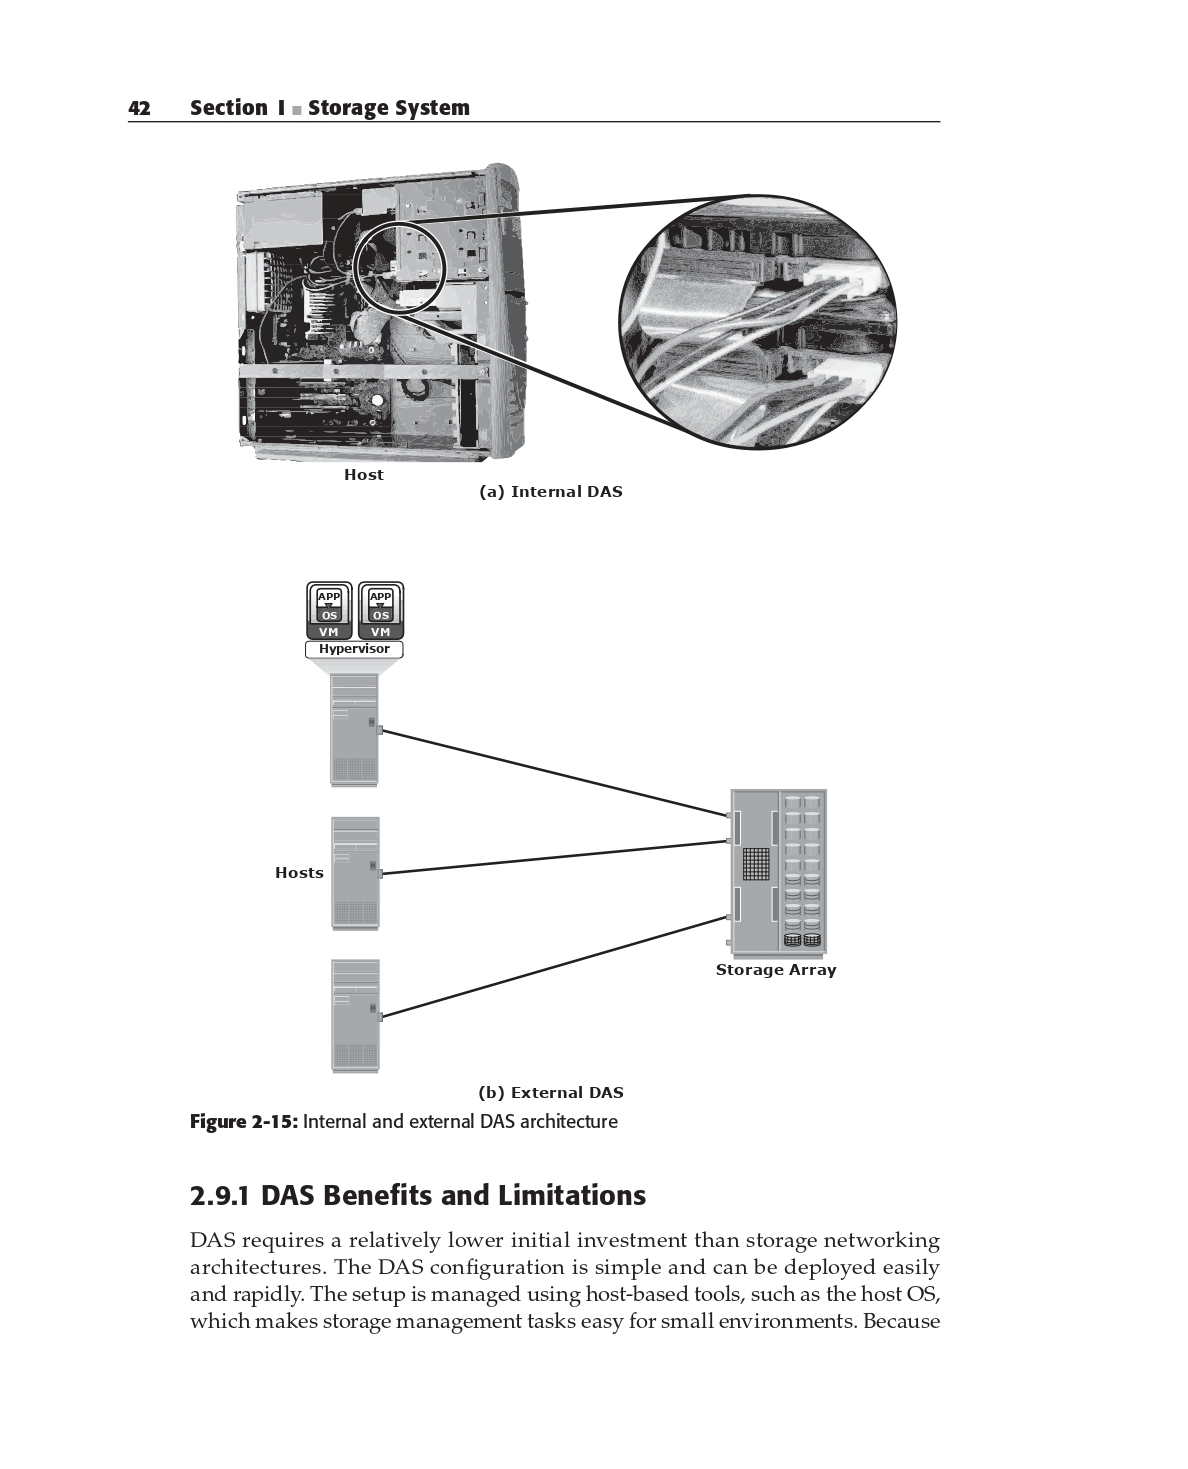Image: (269, 584, 862, 1090), (222, 137, 914, 520)
Paragraph: (181, 1224, 958, 1347), (166, 1174, 657, 1214)
